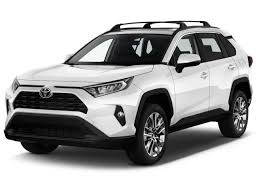Toyota: (7, 25, 241, 150)
